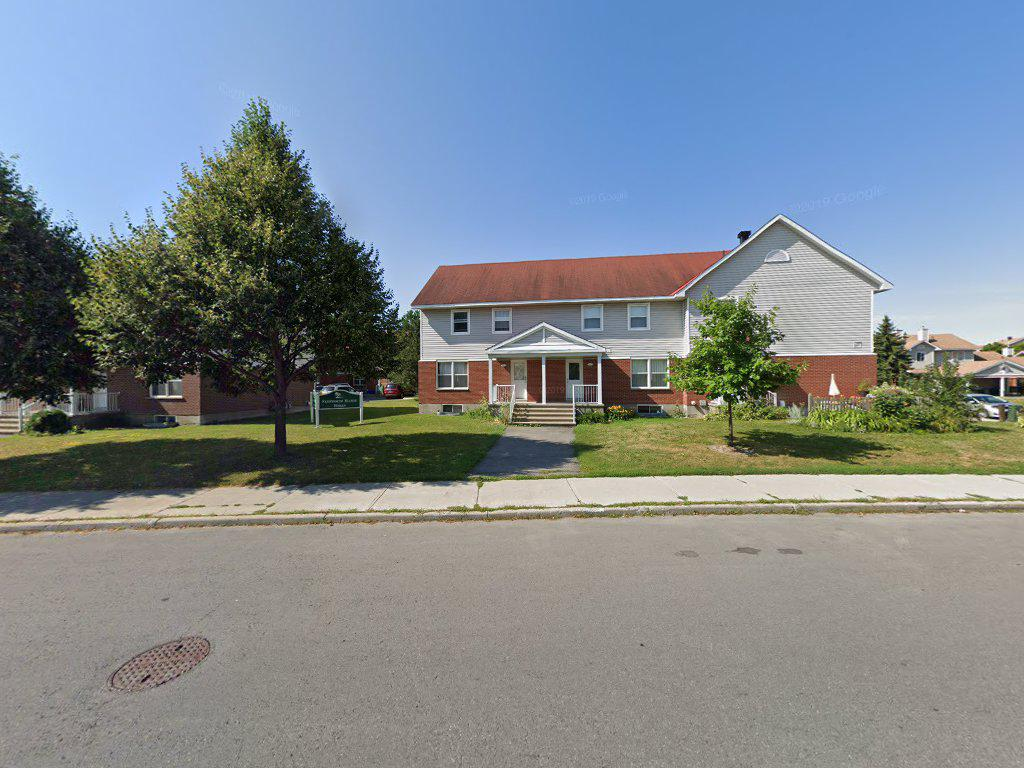trunk: (266, 363, 291, 461), (723, 401, 741, 449)
